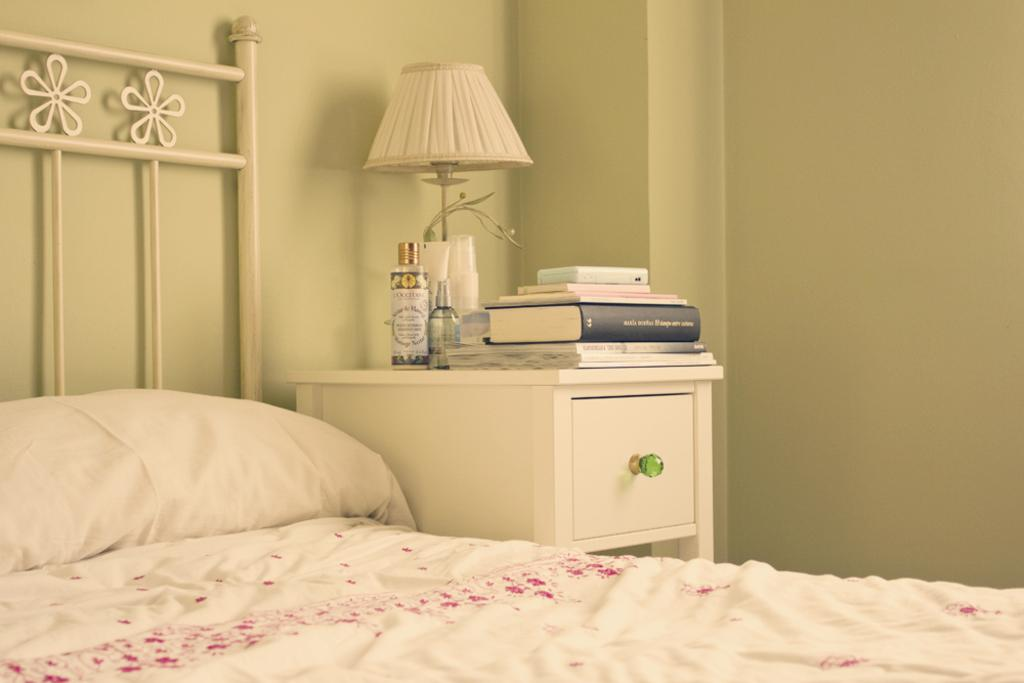cabinet_door: (569, 402, 703, 526)
handle: (625, 443, 669, 484)
